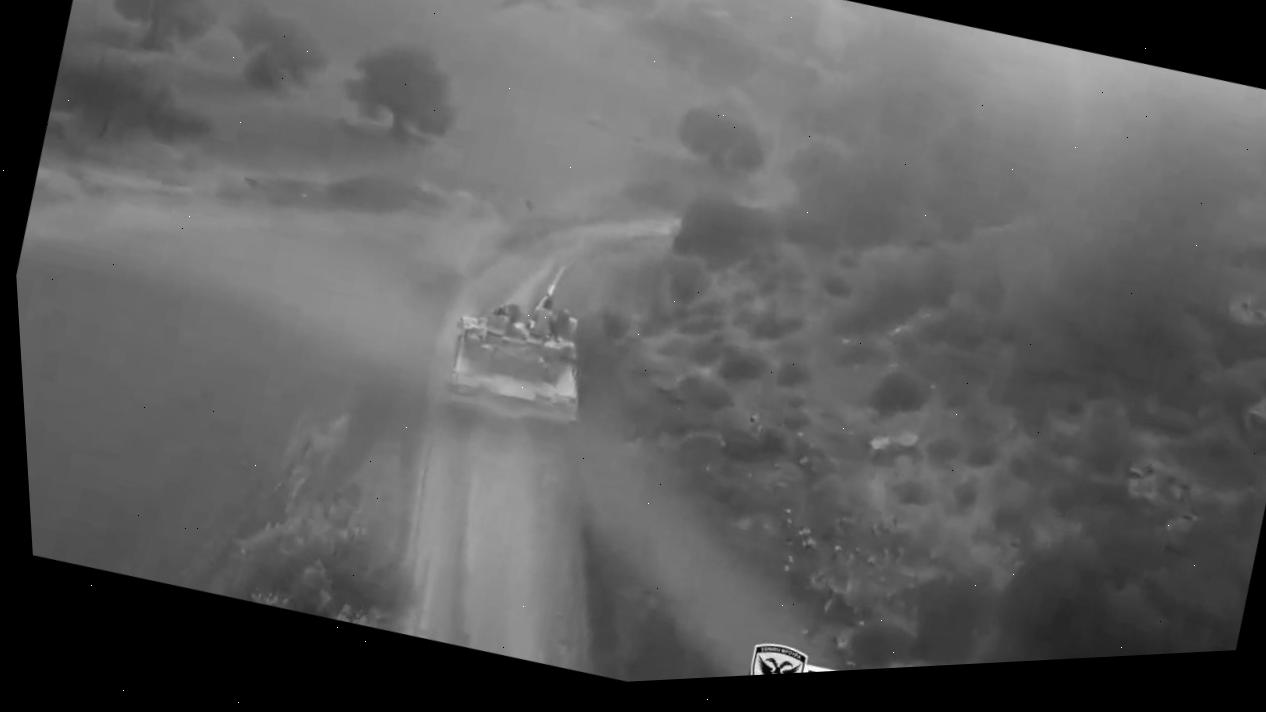tank: (423, 240, 618, 458)
